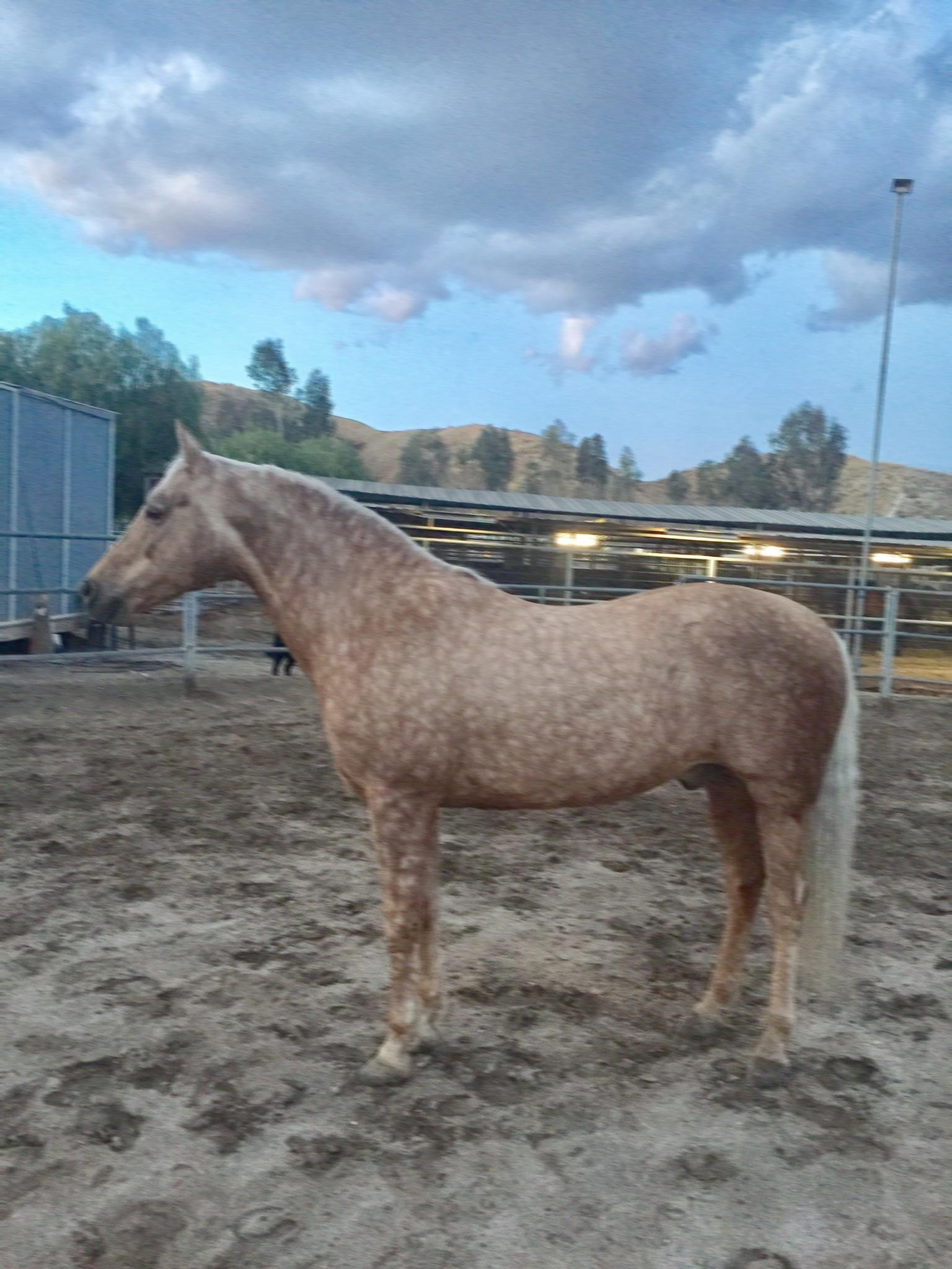horse: (74, 418, 863, 1090)
